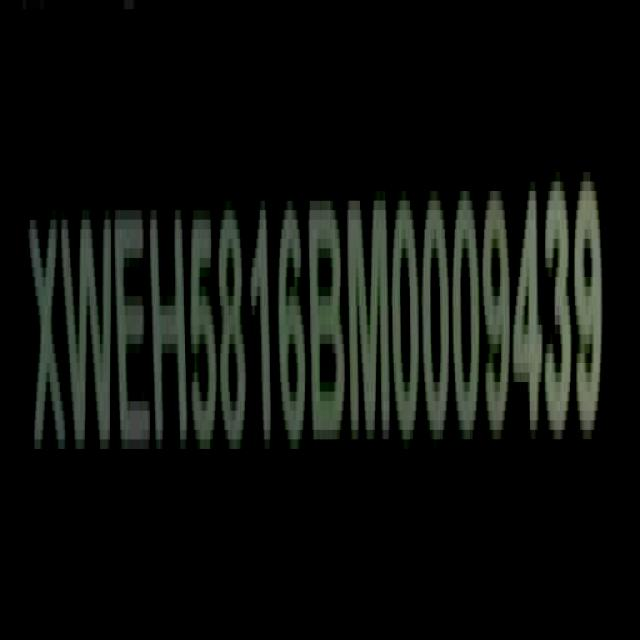0: (390, 184, 422, 449), (421, 191, 453, 439), (451, 180, 482, 436)
1: (248, 180, 274, 439)
3: (544, 156, 572, 438)
4: (512, 163, 544, 428)
5: (188, 202, 218, 460)
6: (276, 198, 306, 449)
8: (217, 191, 251, 449)
9: (572, 176, 605, 432), (482, 177, 511, 442)
B: (307, 180, 346, 439)
E: (112, 208, 153, 464)
H: (150, 188, 188, 481)
M: (346, 188, 394, 435)
W: (61, 198, 114, 474)
X: (29, 205, 70, 464)
